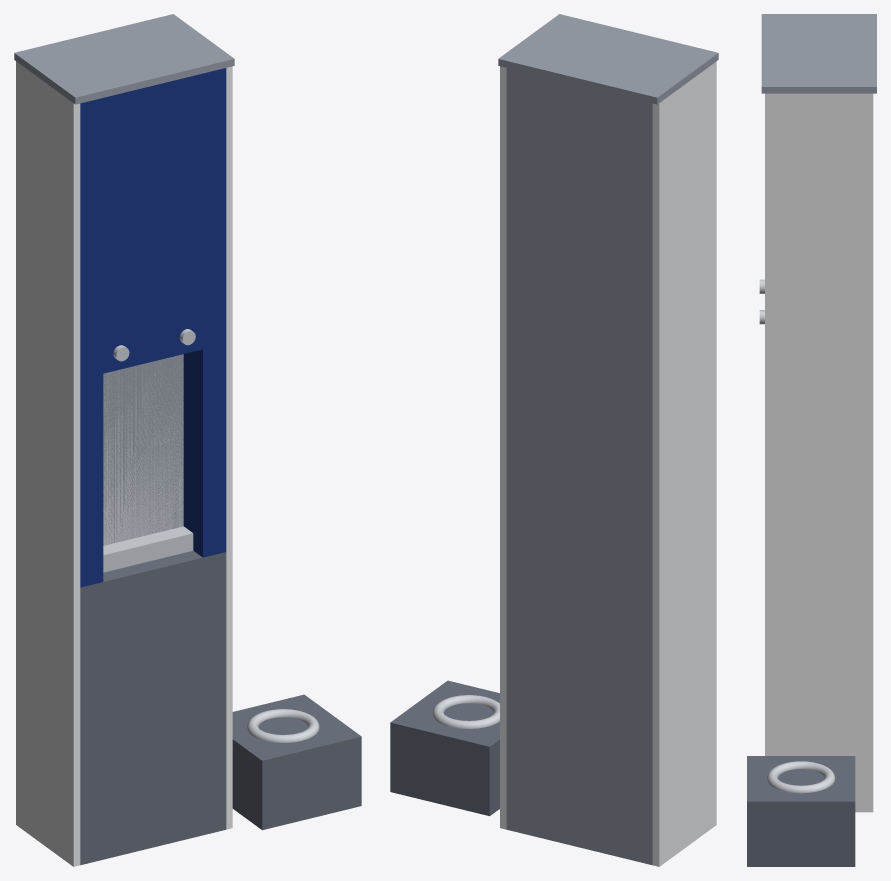
File: lowpoly_drinking_fountain.glb
3 views of the same model, side by side, from view 1: azimuth 30°, elevation 25°; view 2: azimuth 150°, elevation 25°; view 3: azimuth 270°, elevation 25° (orthographic). The views are drawn at different scales.
Bounding box in the file's own units: 0.84 × 2.22 × 0.36.
